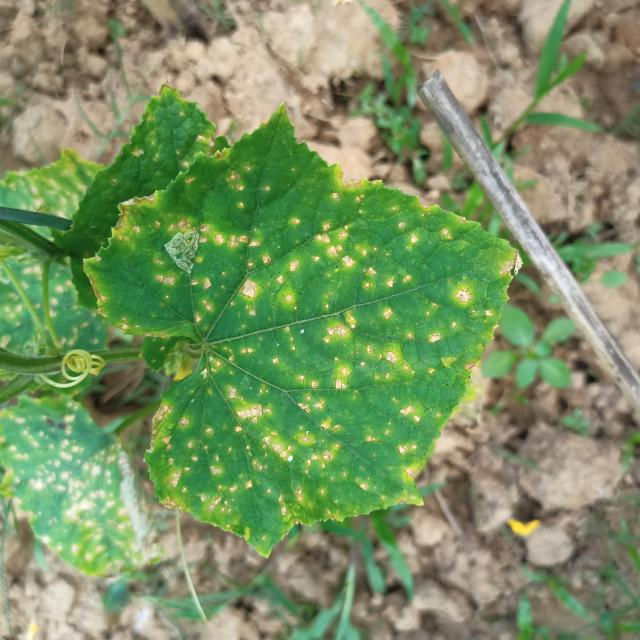disease_cucumber: (94, 160, 511, 518)
